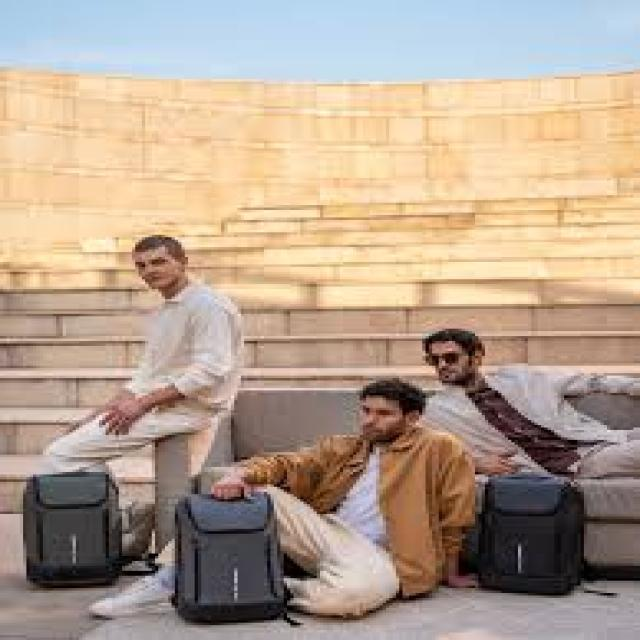backpack: (169, 490, 295, 626), (472, 470, 597, 603), (16, 468, 138, 595)
